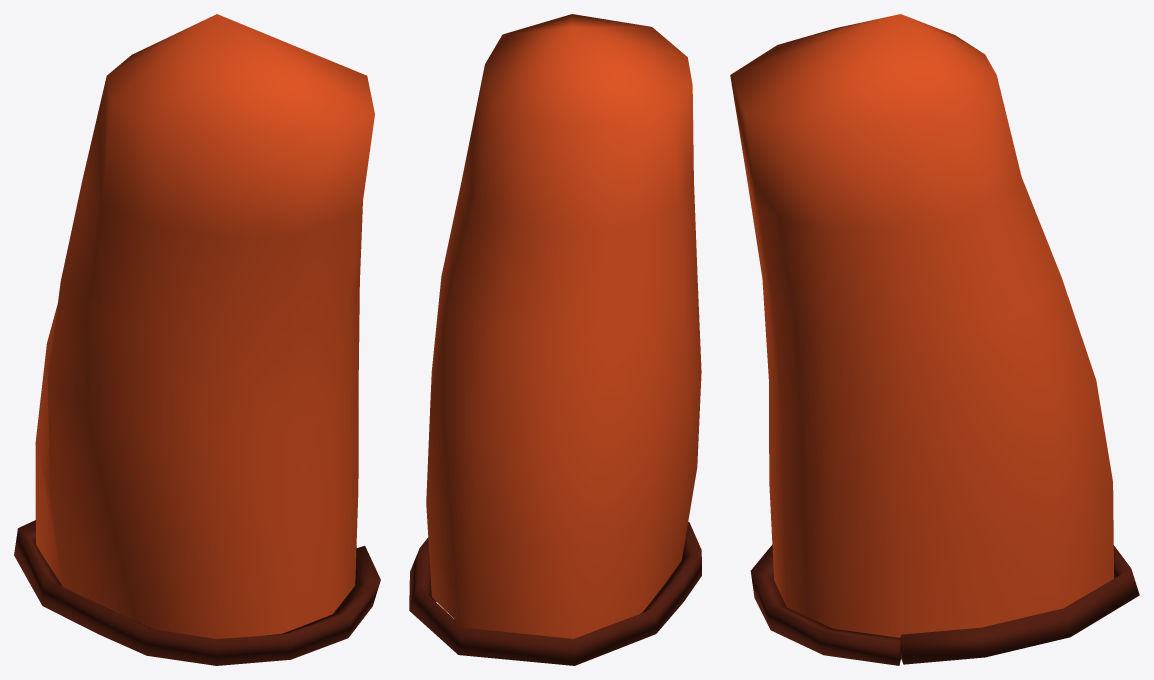
File: hellstone_armor_boot.L.glb
3 views of the same model, side by side, from view 1: azimuth 30°, elevation 25°; view 2: azimuth 150°, elevation 25°; view 3: azimuth 270°, elevation 25° (orthographic). The views are drawn at different scales.
Visible parts, largest first — view 1: hellstone_armor_boot.L; view 2: hellstone_armor_boot.L; view 3: hellstone_armor_boot.L.
Boxes of the visible parts, bbox=[...] form: hellstone_armor_boot.L: bbox=[14, 14, 380, 665]; hellstone_armor_boot.L: bbox=[409, 14, 701, 665]; hellstone_armor_boot.L: bbox=[730, 14, 1139, 665].
Bounding box in the file's own units: 0.1461 × 0.2958 × 0.1877.
